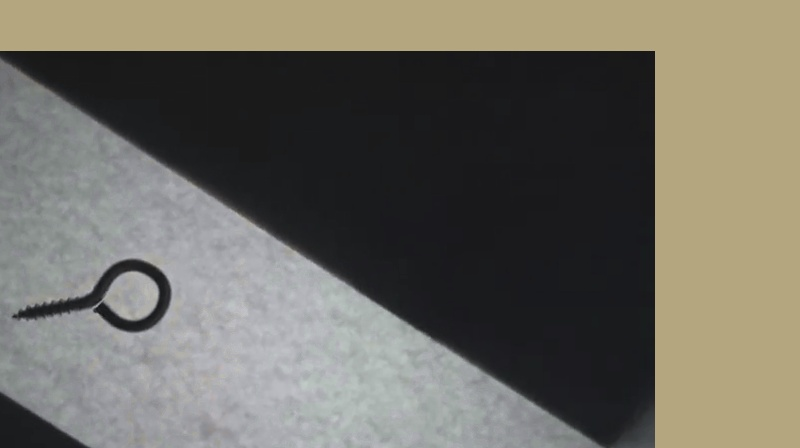O001: (7, 256, 176, 334)
